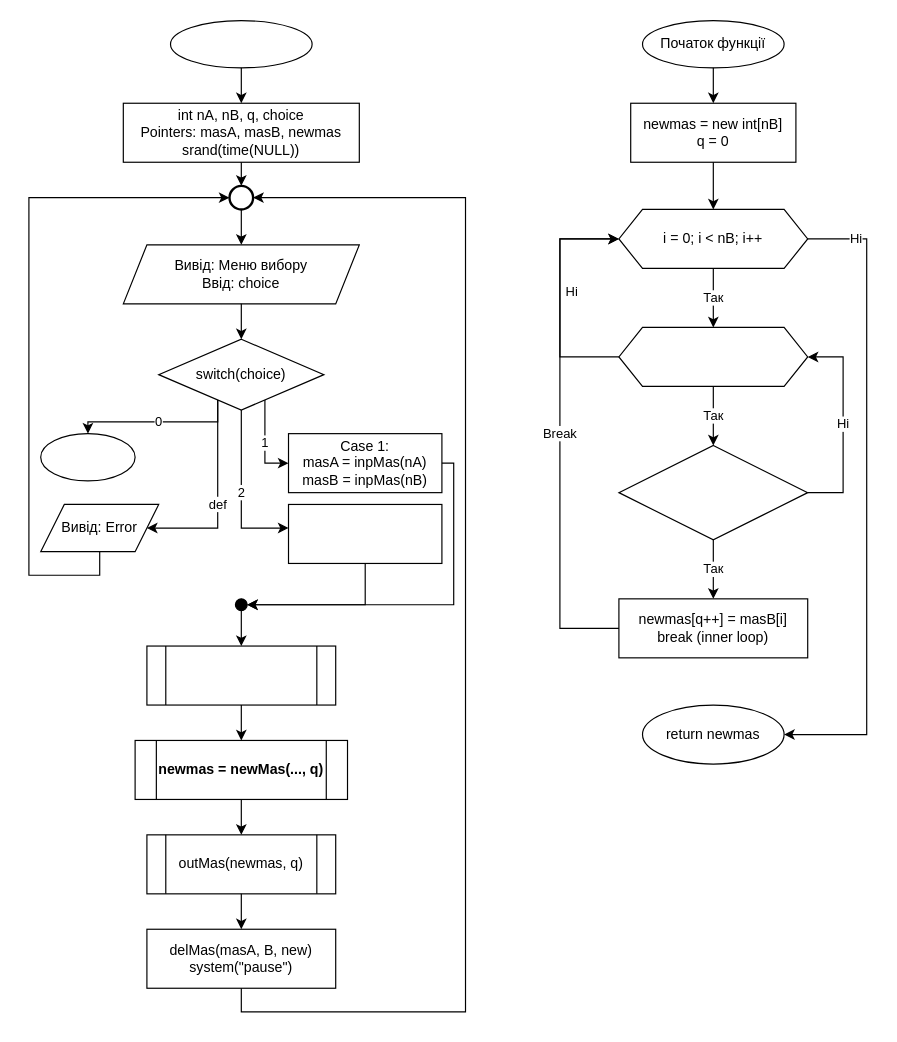
Some shapes in this 897 by 1042 pixel diagram are drawn without their labels. The centre of each missing label's shape, as x and y in pixels:
Case 2: masA = genMas(nA) masB = genMas(nB): the point at 364,533
j = 0; j < nA; j++: the point at 713,356
masB[i] == masA[j] ?: the point at 713,492
outMas(masA, nA) outMas(masB, nB): the point at 241,675
return 0: the point at 87,456
Початок: the point at 240,43
